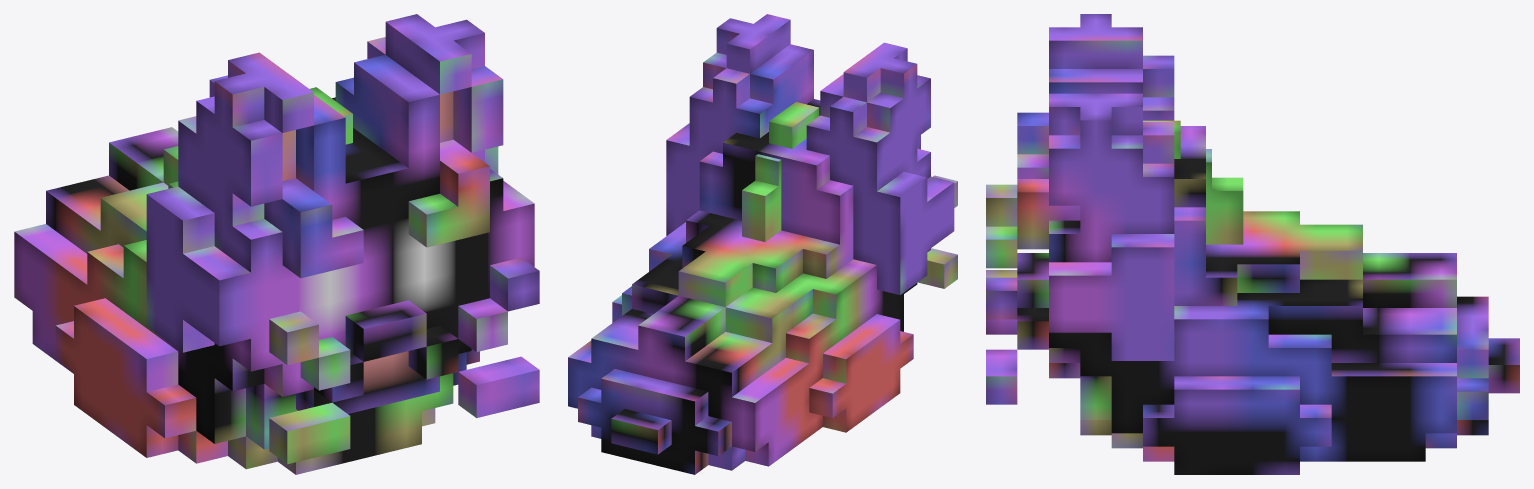
The model's file is skin_16.fbx.
The picture shows the model from 3 angles, left to right: view 1: azimuth 30°, elevation 25°; view 2: azimuth 150°, elevation 25°; view 3: azimuth 270°, elevation 25°; orthographic projection. The views are drawn at different scales.
Parts seen in each view (by area): view 1: skin_16-5.002, skin_16-0.002; view 2: skin_16-5.002, skin_16-0.002; view 3: skin_16-5.002, skin_16-0.002.
Boxes of the visible parts, box(x1,y1,x2,y2) form: skin_16-5.002: box(14, 14, 539, 474); skin_16-0.002: box(310, 87, 352, 144); skin_16-5.002: box(568, 14, 957, 474); skin_16-0.002: box(742, 102, 819, 241); skin_16-5.002: box(986, 14, 1519, 474); skin_16-0.002: box(1143, 120, 1243, 244).
Size of the model in its own units: 100 by 121 by 170.
